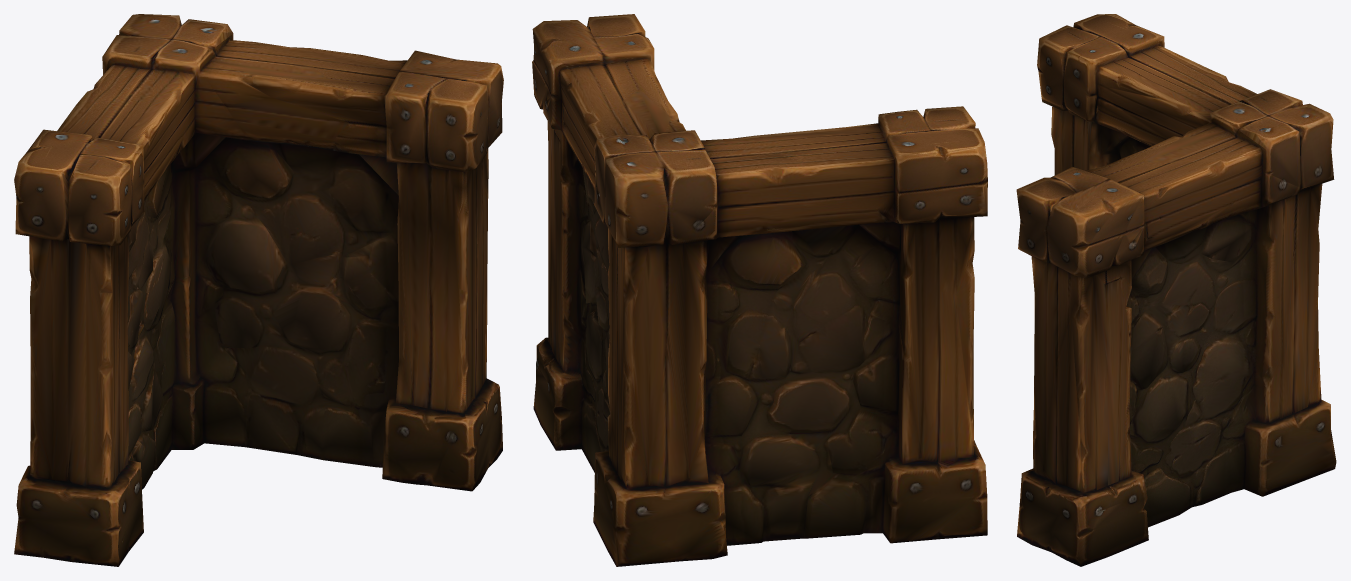
File: esquina_de_piedra_y_madera.glb
3 renders of one model, left to right at view 1: azimuth 30°, elevation 25°; view 2: azimuth 150°, elevation 25°; view 3: azimuth 270°, elevation 25°, orthographic. The views are drawn at different scales.
Visible parts, largest first — view 1: esquina_de_piedra_y_madera; view 2: esquina_de_piedra_y_madera; view 3: esquina_de_piedra_y_madera.
Part boxes in pixels (box(x1,y1,x2,y2)): esquina_de_piedra_y_madera: box(14, 14, 503, 566); esquina_de_piedra_y_madera: box(532, 14, 987, 566); esquina_de_piedra_y_madera: box(1016, 14, 1336, 566).
Size of what is drawn, in the model's own units: 3.13 by 2.49 by 2.04.
1 material, 1 textured.
